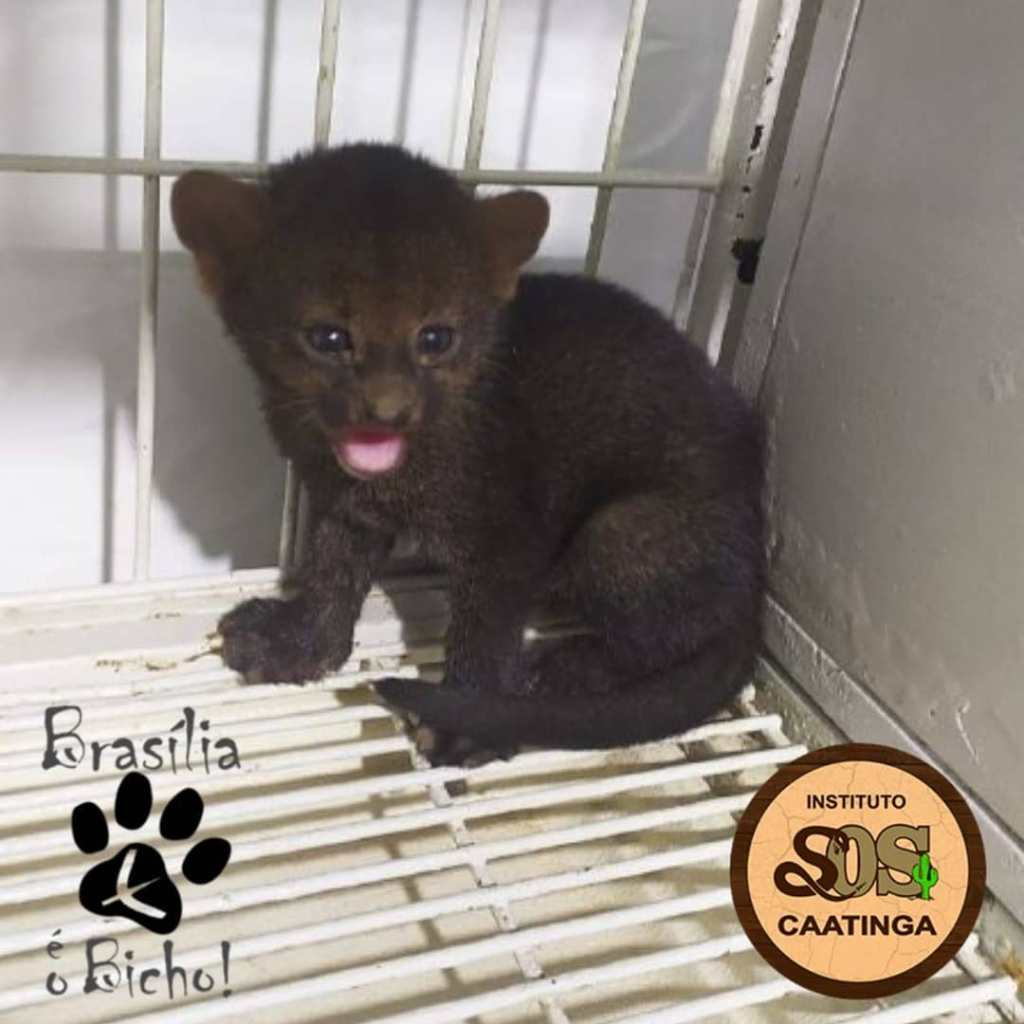Jaguarundi: (150, 132, 788, 752)
